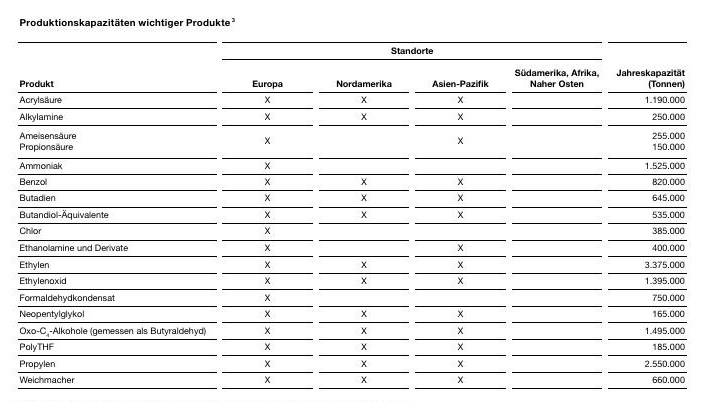table: (0, 0, 702, 402)
